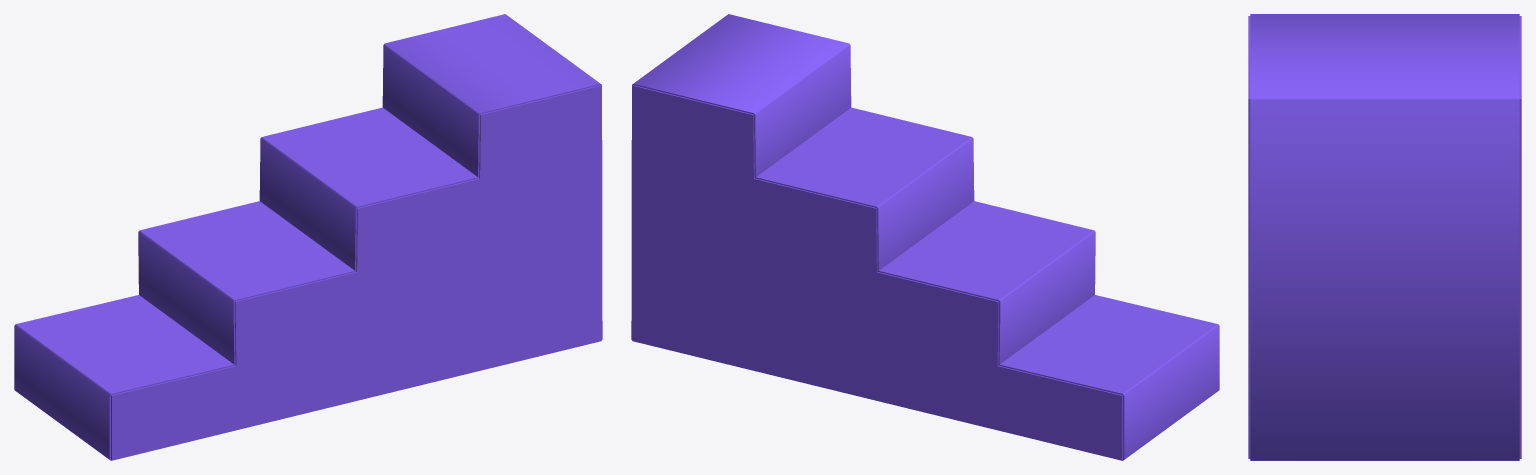
The model's file is stairs.fbx.
3 views of the same model, side by side, from view 1: azimuth 30°, elevation 25°; view 2: azimuth 150°, elevation 25°; view 3: azimuth 270°, elevation 25° (orthographic). The views are drawn at different scales.
Parts seen in each view (by area): view 1: stairs; view 2: stairs; view 3: stairs.
Boxes of the visible parts, box(x1,y1,x2,y2) form: stairs: box(14, 14, 602, 460); stairs: box(631, 14, 1219, 460); stairs: box(1248, 14, 1521, 460).
Size of the model in its own units: 808 by 404 by 275.
